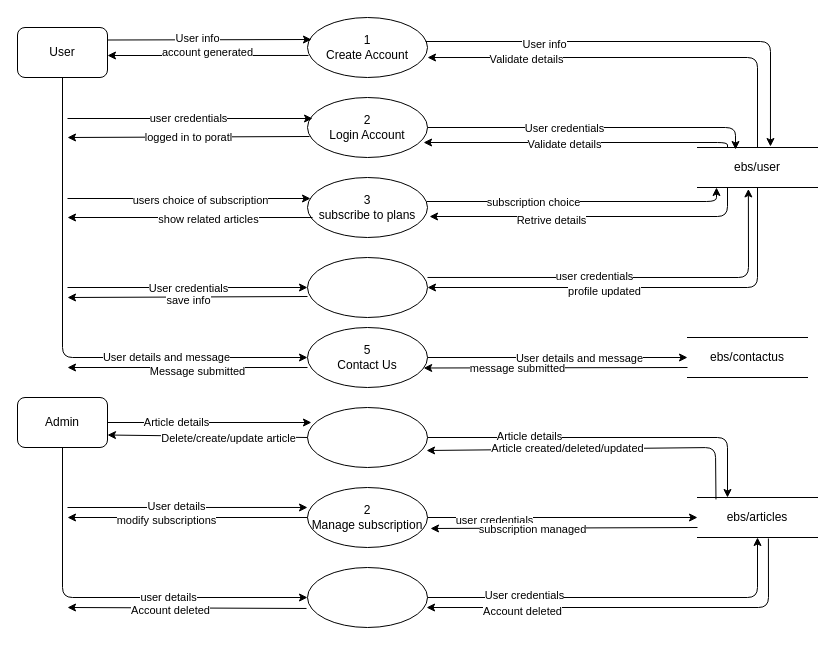
Some shapes in this 835 by 645 pixel diagram are drawn without their labels. The centre of each missing label's shape, as x and y in pixels:
1 Manage Articles: (367,437)
3 Delete User: (367,597)
4 manage profile: (367,287)
